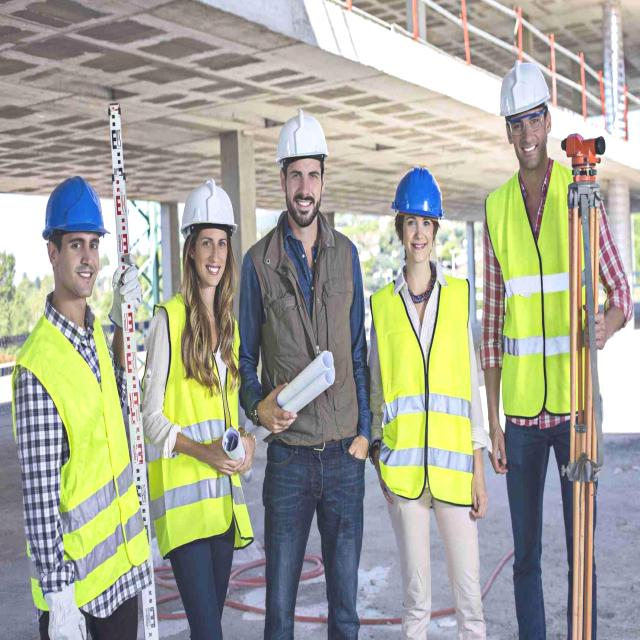face_nomask: (56, 232, 103, 302), (282, 156, 321, 224), (508, 101, 544, 174), (398, 213, 433, 264), (193, 231, 227, 283)
hand_glove: (42, 585, 86, 640)
hand_noglove: (248, 376, 293, 441), (207, 435, 253, 485), (582, 303, 612, 358), (467, 462, 489, 524), (486, 426, 510, 476)
head_helmet: (486, 51, 556, 113), (266, 109, 338, 166), (172, 178, 238, 238), (48, 172, 102, 236), (393, 162, 442, 221)
person: (498, 52, 606, 625), (7, 170, 132, 638), (253, 94, 362, 627), (371, 162, 475, 618), (166, 166, 244, 614)
vest: (16, 308, 141, 614), (356, 275, 474, 486), (150, 298, 242, 538), (490, 165, 577, 416)
